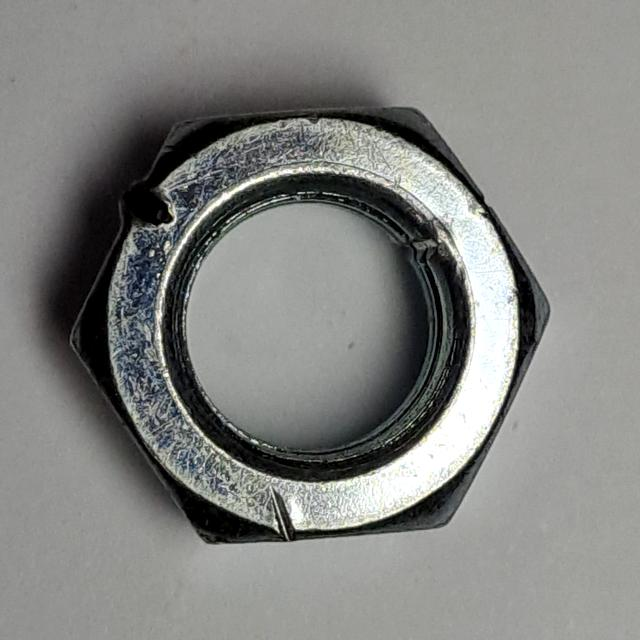Scratches: (57, 89, 564, 561)
